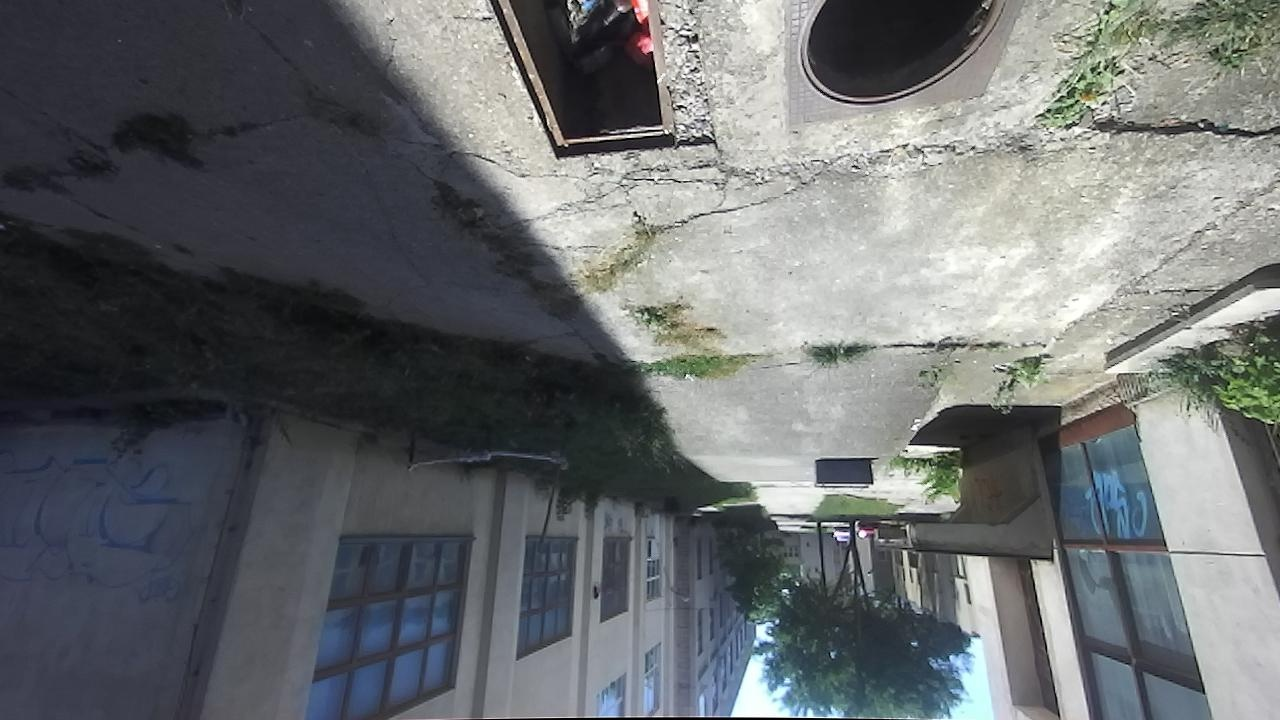drain: (499, 0, 713, 162), (800, 0, 1005, 106)
